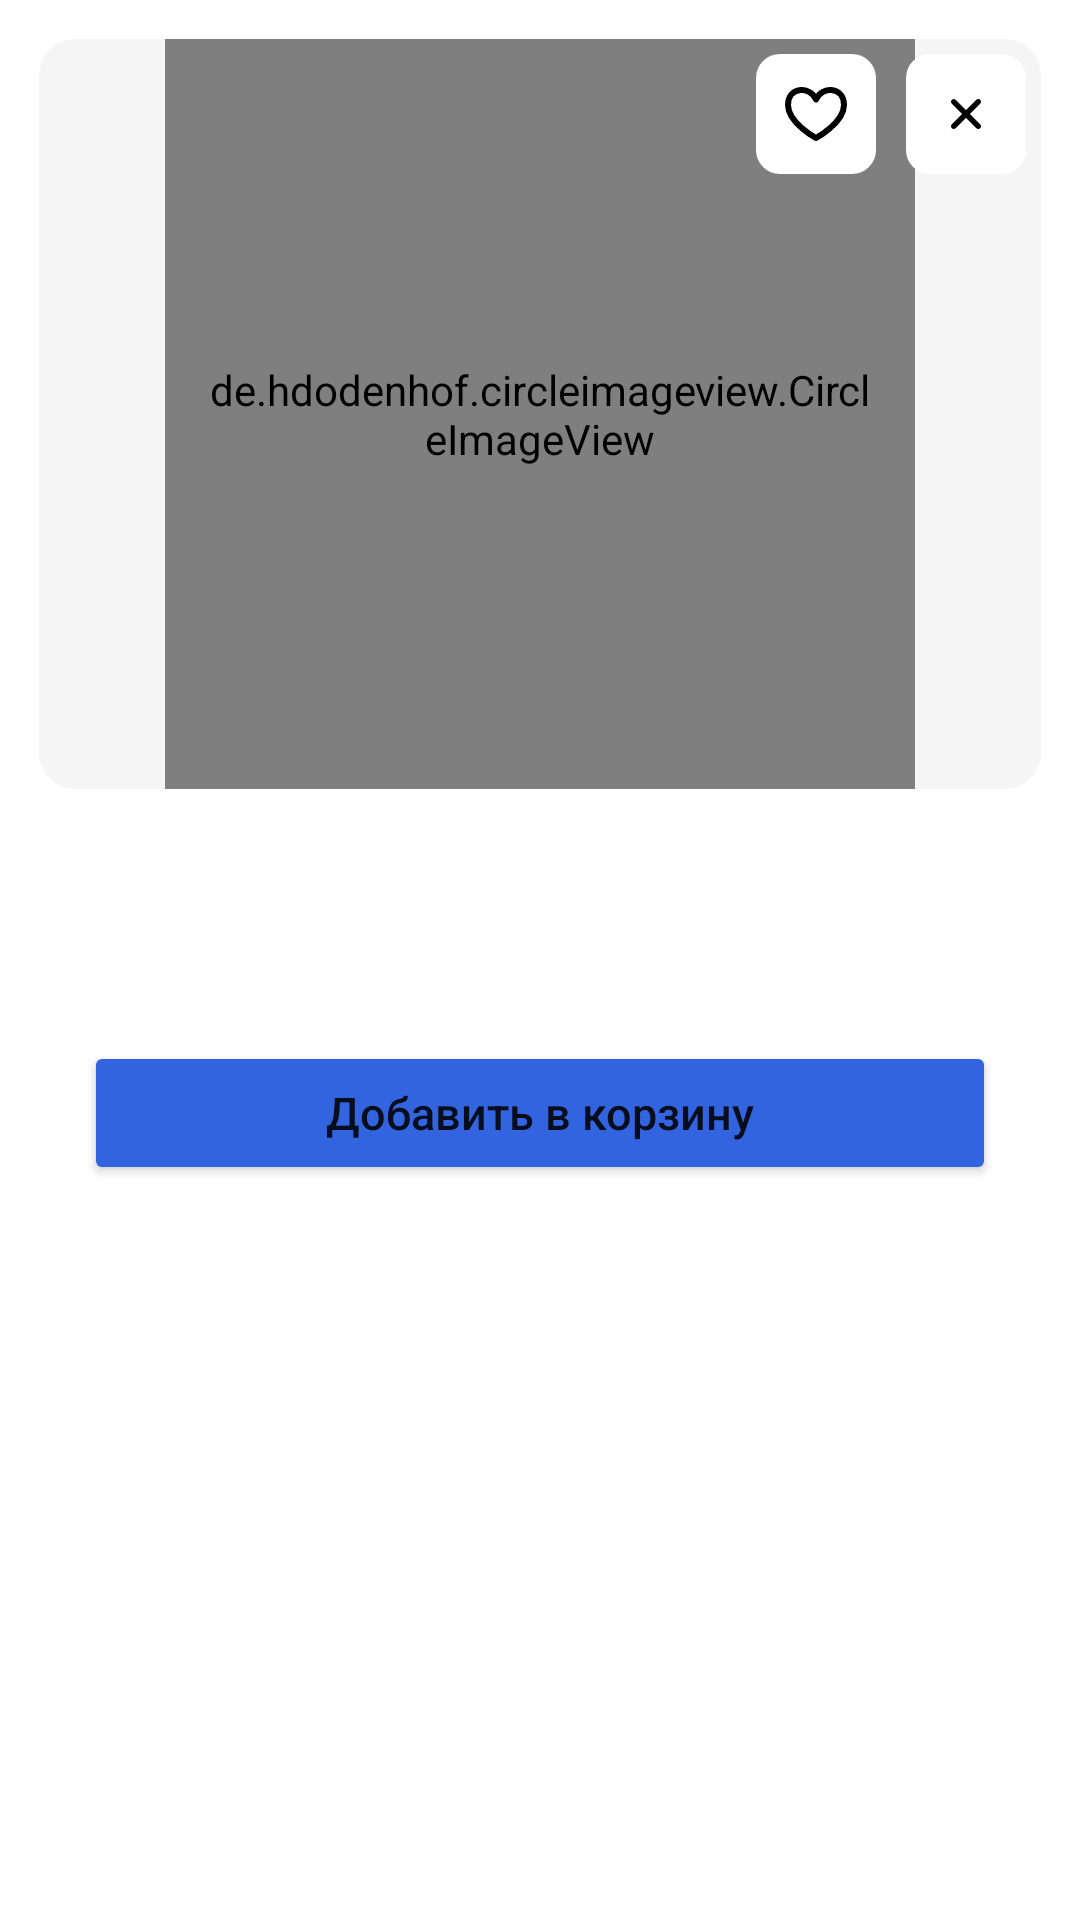

Locate icon controls on the screen. Image size 1080×1920, boxes as detection(x1, y1, x2, y2).
exit: detection(951, 99, 981, 129)
favorite: detection(756, 54, 876, 174)
